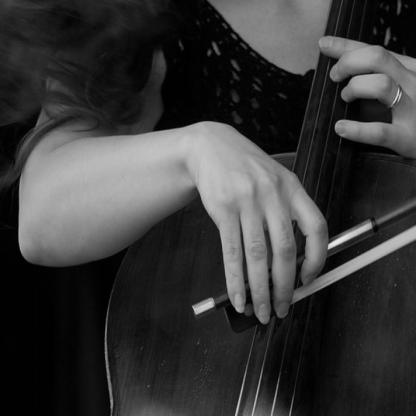good: (198, 134, 331, 329)
